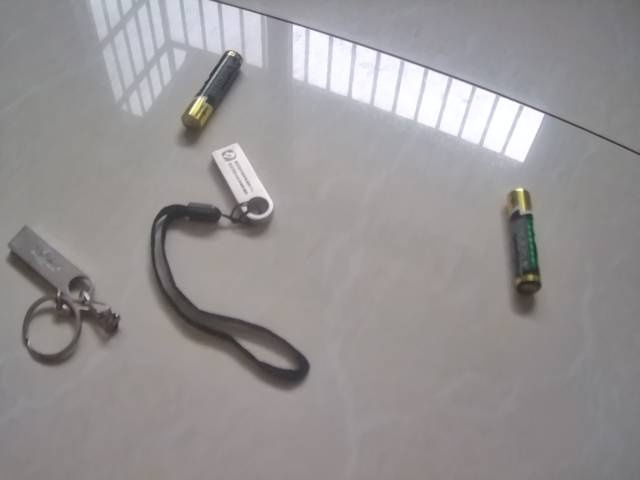U-disk: (144, 142, 280, 293), (4, 220, 123, 369)
battery: (180, 46, 243, 135), (500, 183, 547, 299)
